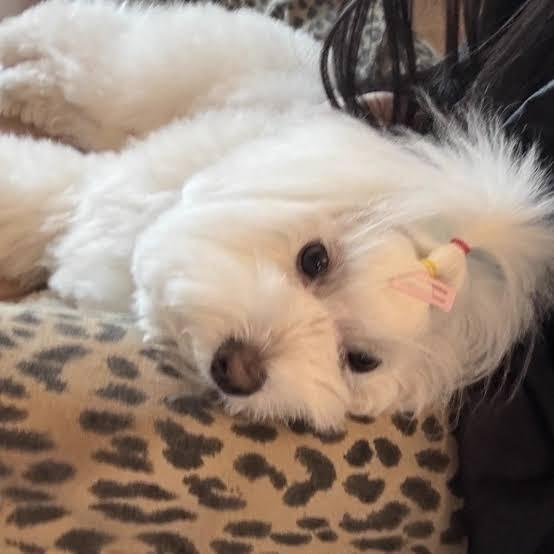adult_dog: (1, 2, 554, 434)
